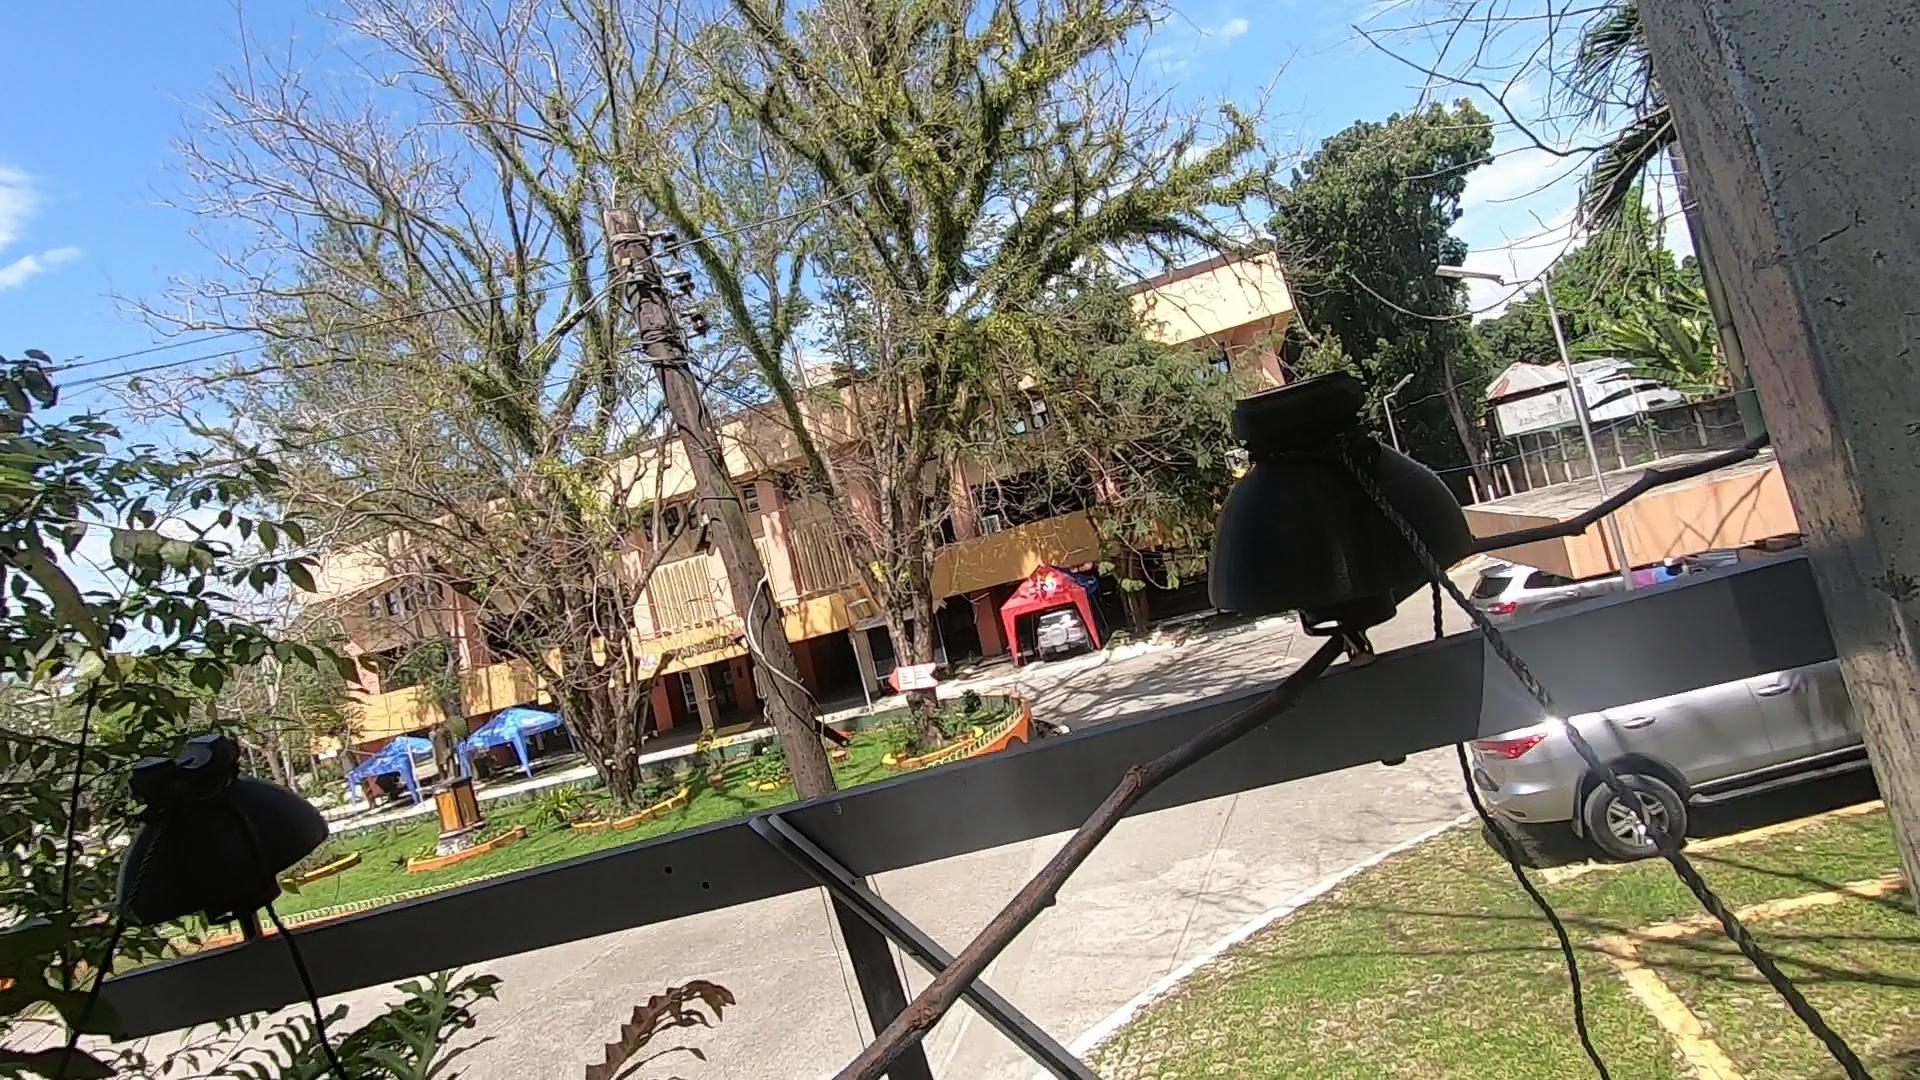tree branch: (658, 446, 1818, 1077)
